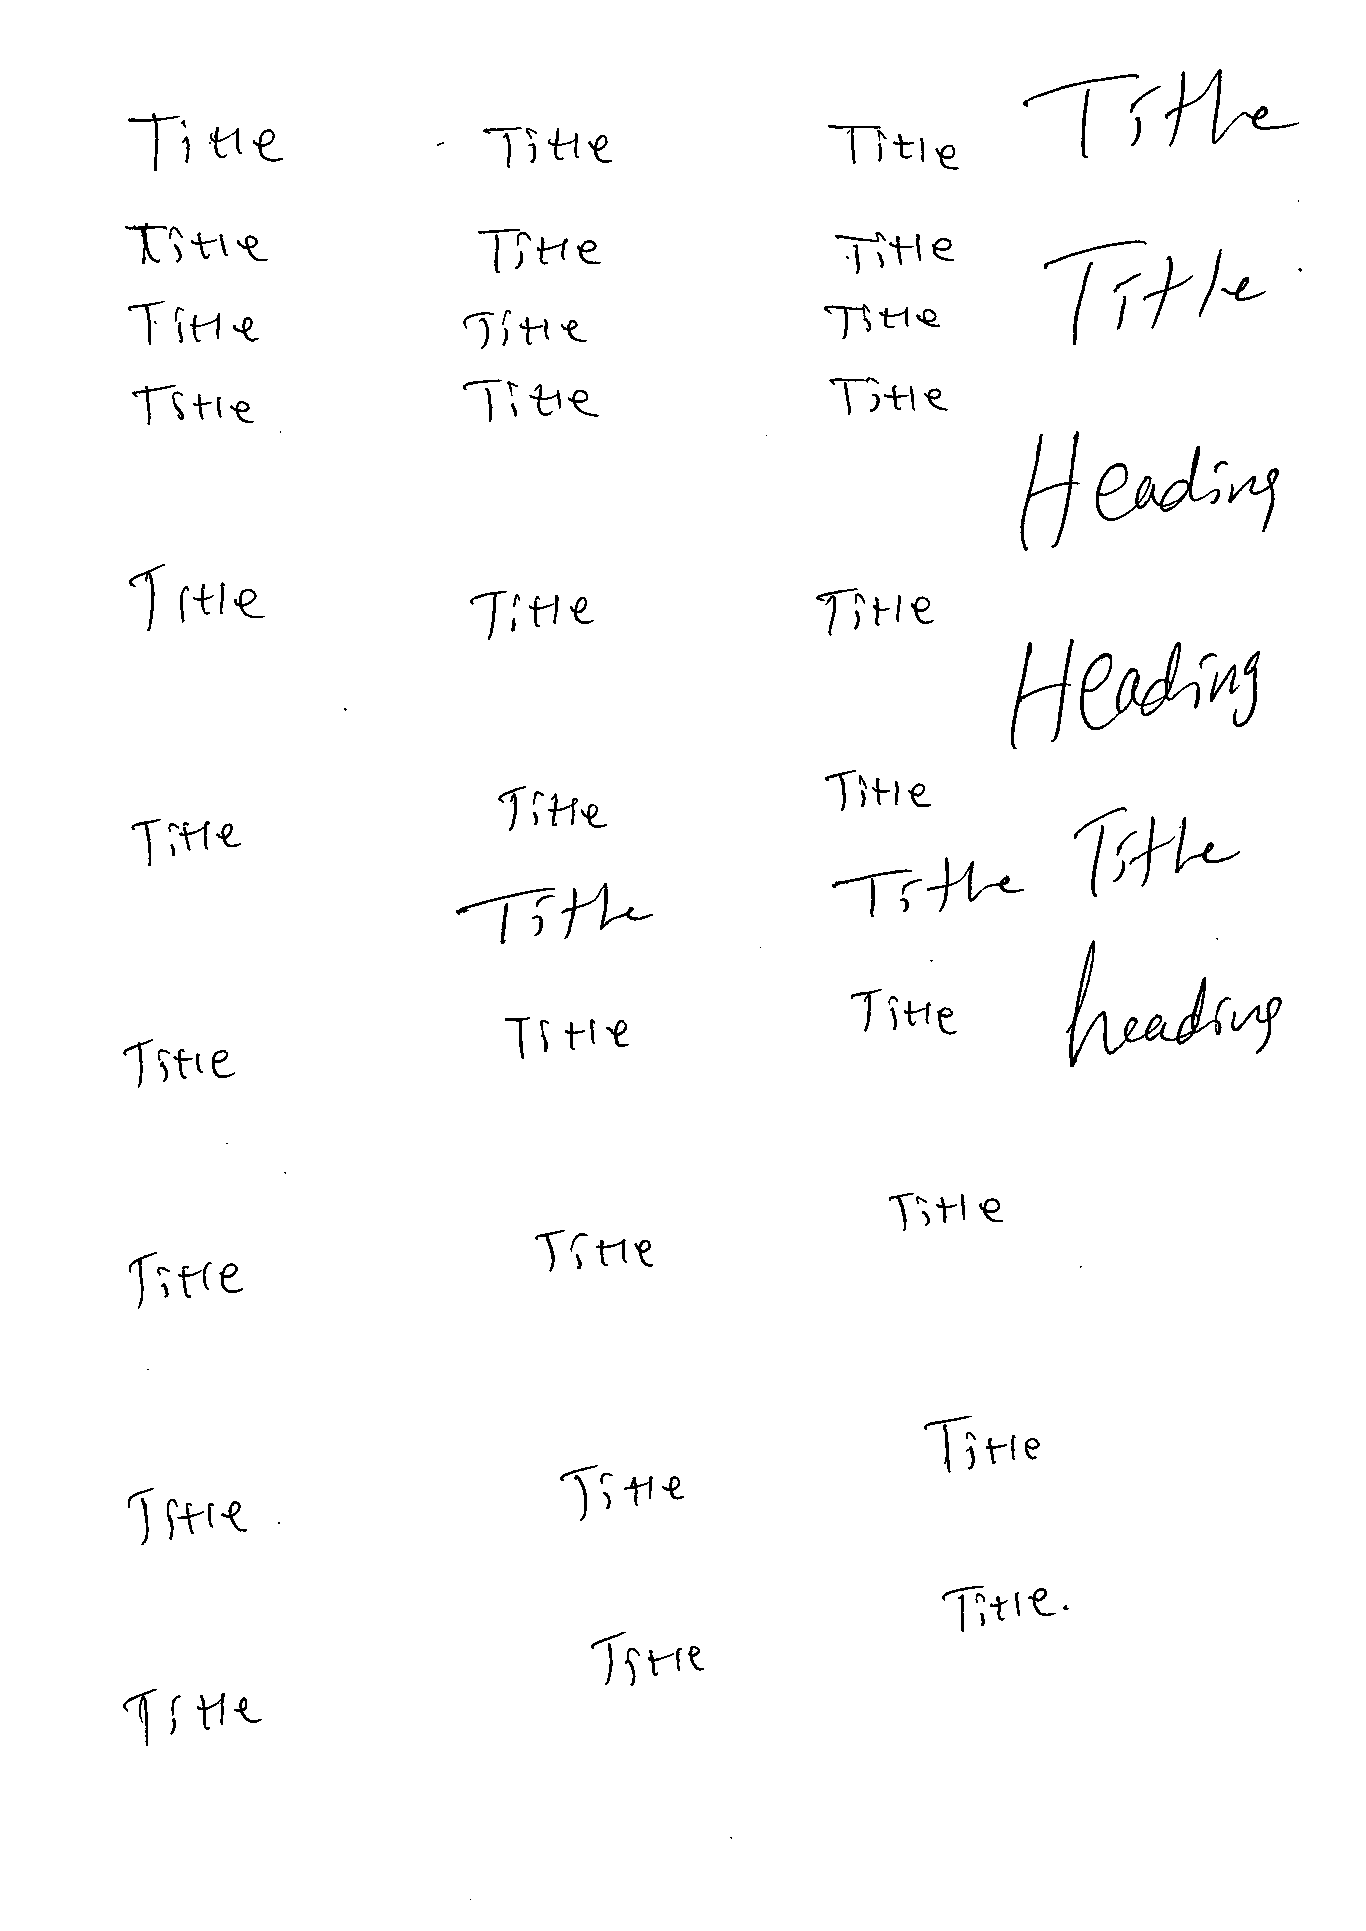Heading: (1016, 429, 1282, 552), (1011, 636, 1265, 754), (1064, 940, 1288, 1072), (1017, 67, 1294, 161), (1036, 237, 1265, 346), (1069, 806, 1243, 899), (455, 884, 656, 949), (829, 858, 1027, 921), (124, 109, 287, 176), (127, 560, 259, 631), (118, 1683, 265, 1740), (126, 1484, 251, 1550), (921, 1414, 1044, 1479), (557, 1461, 689, 1521), (483, 117, 616, 174), (121, 296, 256, 352), (124, 1251, 241, 1314), (123, 217, 269, 268), (476, 223, 602, 281), (823, 121, 959, 174), (466, 586, 591, 642), (464, 374, 596, 427), (503, 1008, 634, 1062), (588, 1629, 707, 1689), (846, 986, 959, 1044), (942, 1579, 1054, 1635), (497, 781, 605, 838), (458, 308, 591, 353), (820, 373, 954, 418), (532, 1226, 653, 1276), (819, 766, 936, 818), (812, 586, 931, 636), (126, 379, 251, 426), (127, 816, 245, 866), (886, 1186, 1004, 1235), (832, 229, 956, 274), (118, 1041, 234, 1084), (819, 302, 942, 342)
